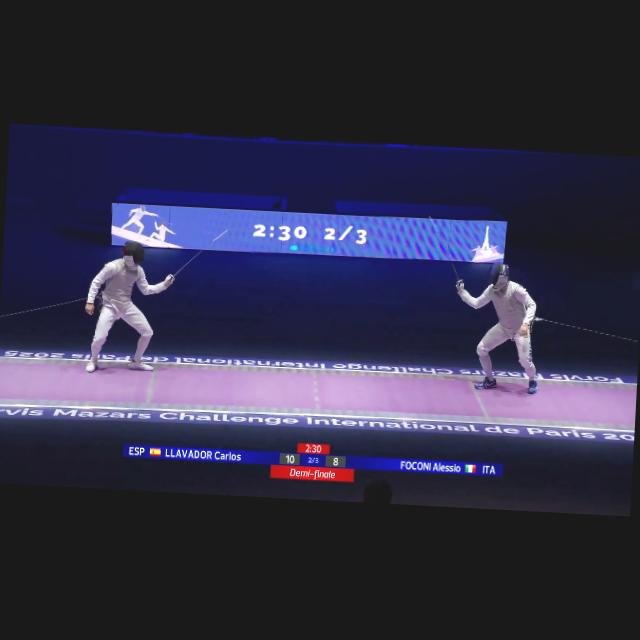blade: (160, 223, 233, 286), (423, 214, 471, 286)
